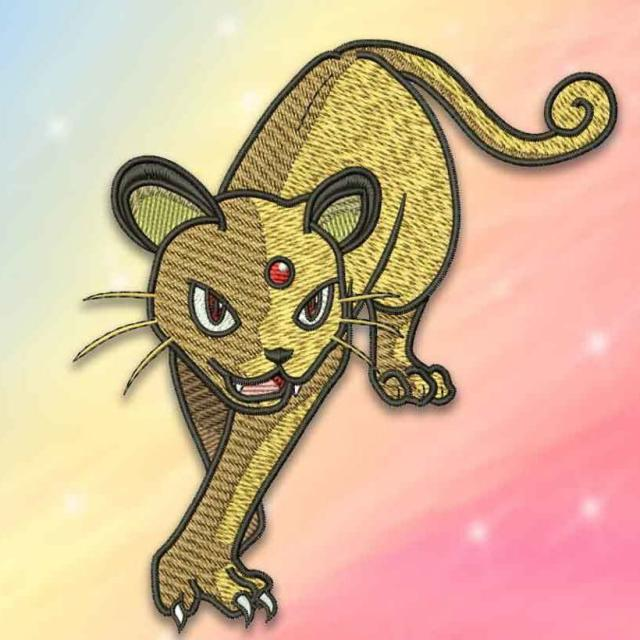Persian: (119, 40, 479, 611)
